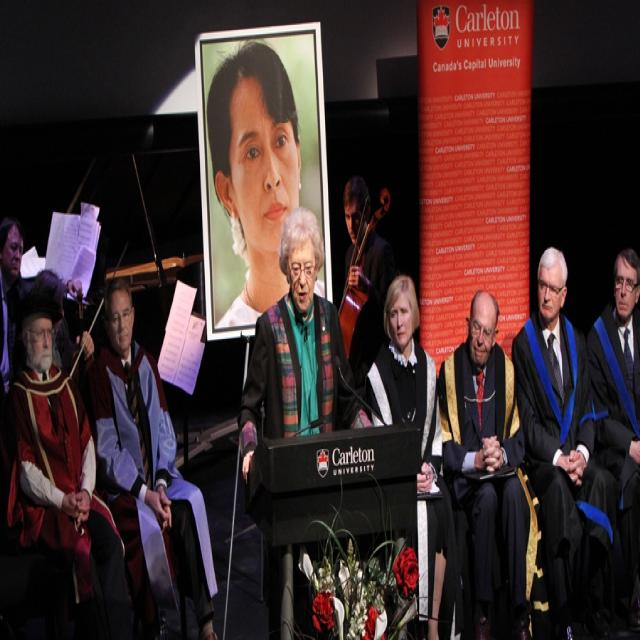body: (89, 273, 224, 640), (507, 242, 624, 639), (5, 290, 135, 640), (237, 202, 375, 486), (357, 267, 459, 639), (205, 39, 323, 335), (435, 288, 530, 640), (0, 215, 83, 475), (586, 244, 640, 640), (10, 266, 97, 433), (341, 174, 399, 386)
